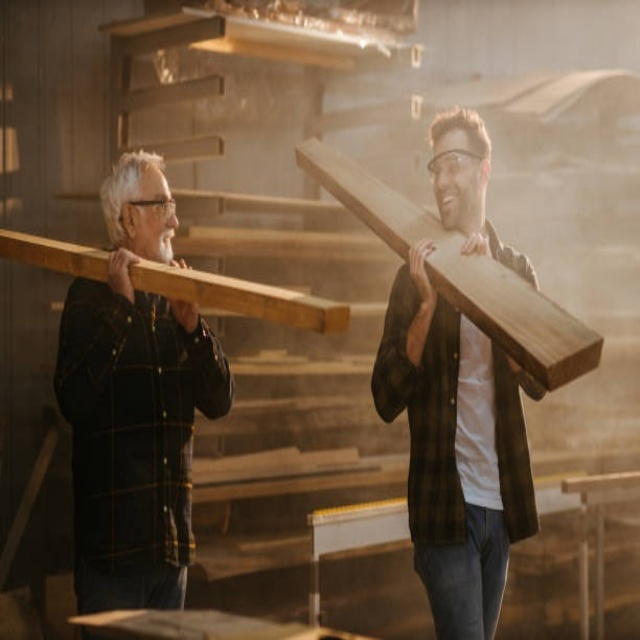Gafas: (427, 149, 485, 178), (128, 198, 176, 217)
Sin_guantes: (407, 232, 438, 295), (107, 245, 139, 290), (460, 230, 490, 258)
Sin_mascara: (436, 188, 460, 221), (155, 227, 178, 256)
